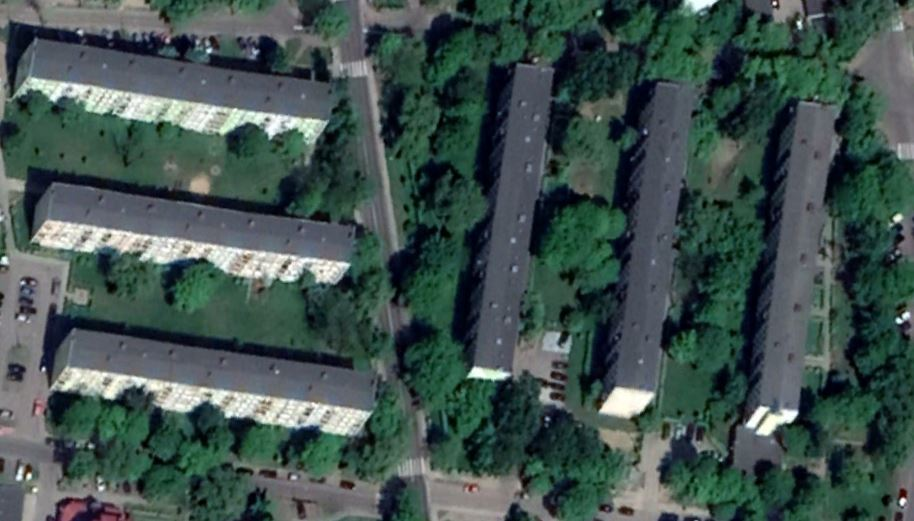block of flats: (43, 325, 384, 452), (29, 173, 363, 293), (591, 73, 700, 424), (14, 34, 337, 152), (735, 95, 839, 440), (460, 56, 556, 388)
